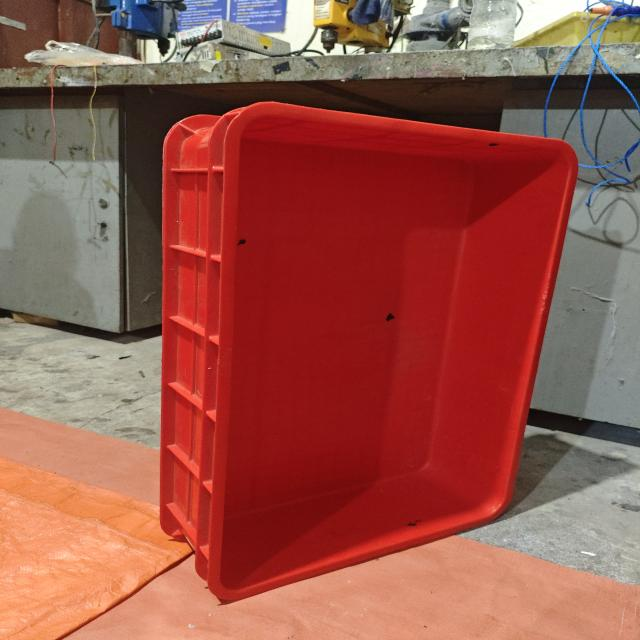red plastic box: (159, 101, 580, 604)
